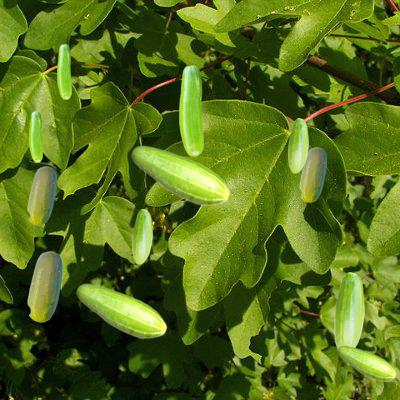cucumber: (131, 145, 229, 205), (76, 283, 166, 338), (27, 251, 61, 321), (334, 272, 363, 348), (179, 65, 202, 155), (337, 345, 395, 380), (27, 166, 55, 224), (299, 147, 325, 201), (132, 209, 151, 263), (288, 118, 307, 172), (57, 44, 70, 98), (29, 111, 41, 161)
